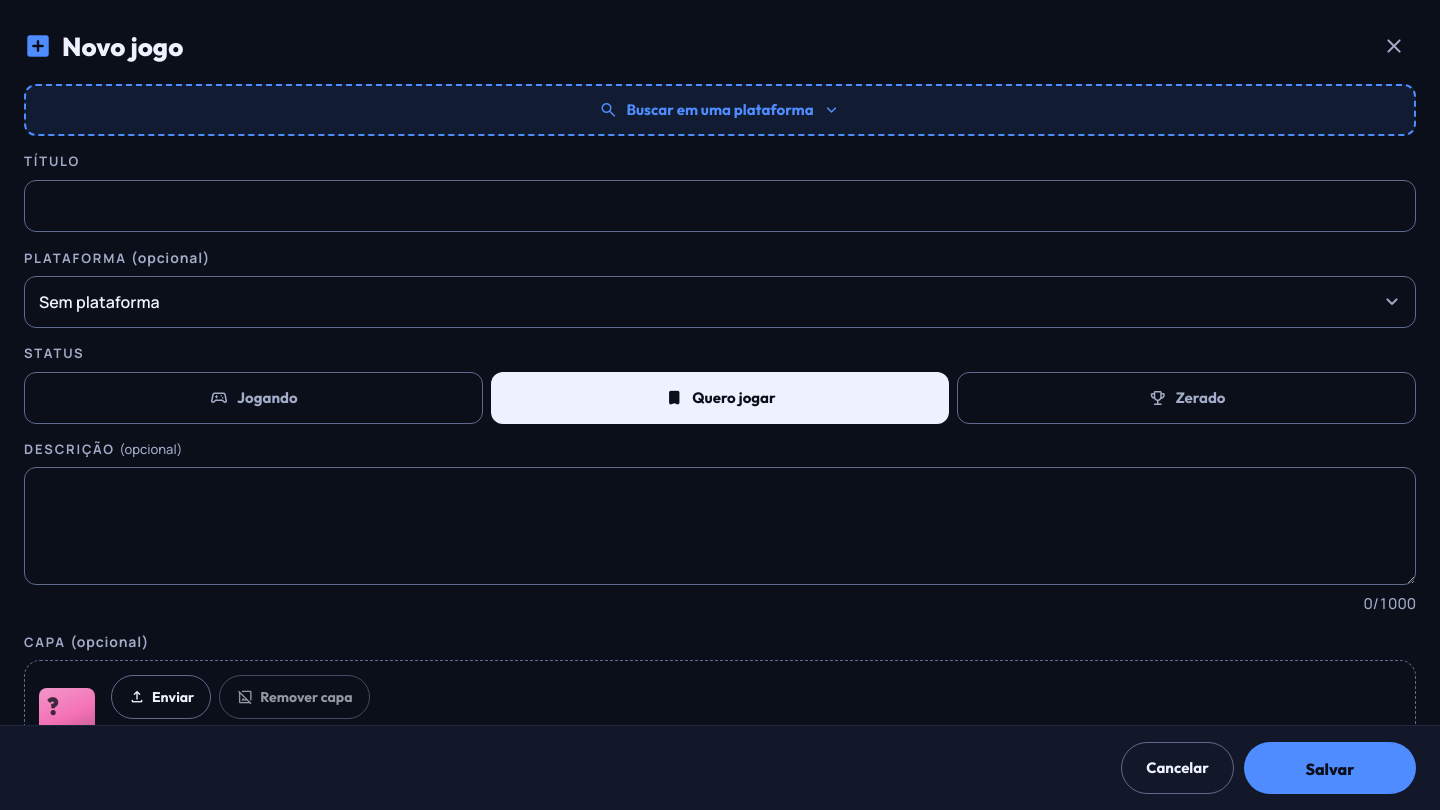
GameForm — Buscar na Steam e Buscar na PlayStation (CA-32 a CA-36) › com as duas contas: UM botão que abre a lista, na ordem do cadastro
Step 1. Click the button "Buscar em uma plataforma" → (720, 110), box top-left (24, 84), bottom-right (1416, 136)
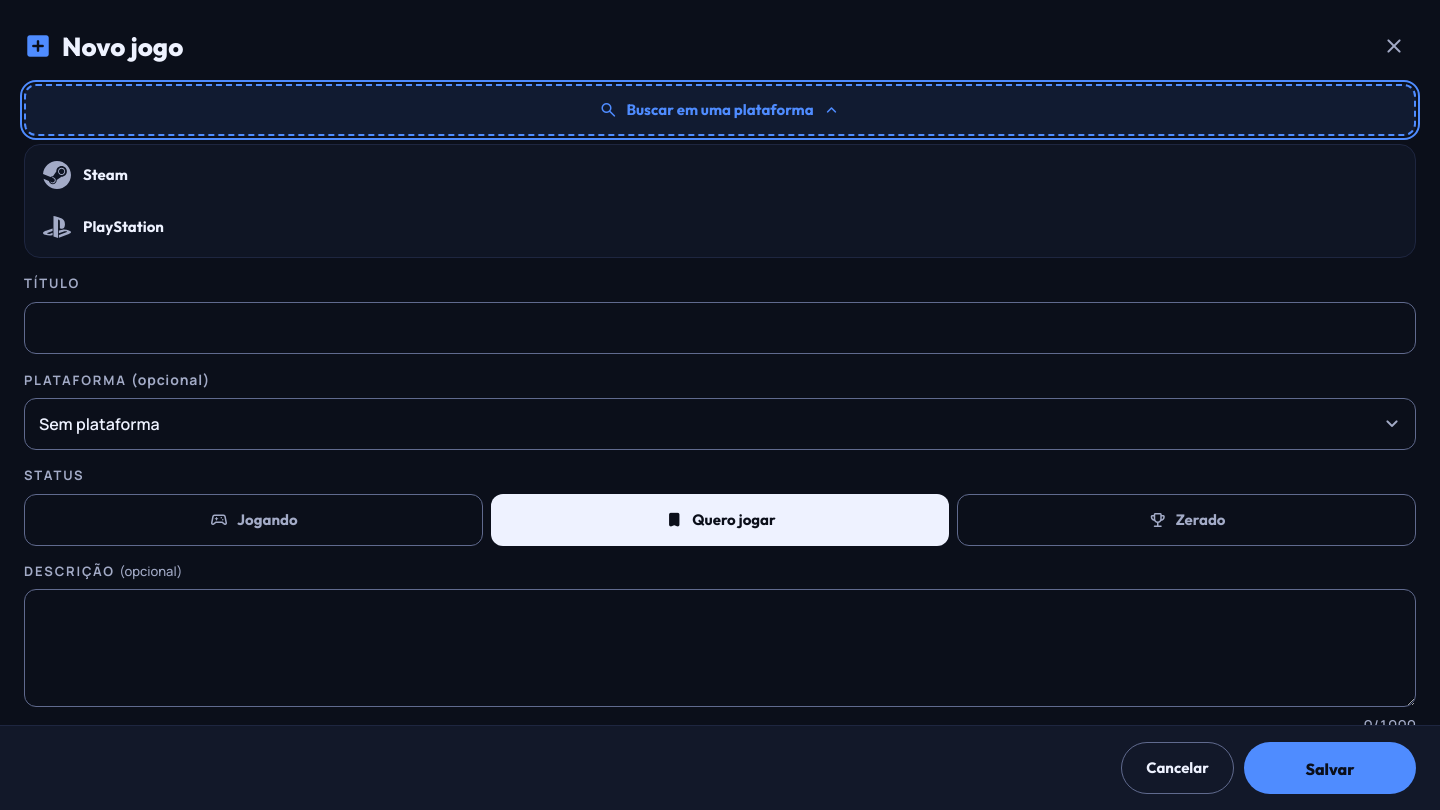
Check: the menu items read "Steam", "PlayStation", in this order, box top-left (31, 151), bottom-right (1409, 199); top-left (31, 203), bottom-right (1409, 251)
